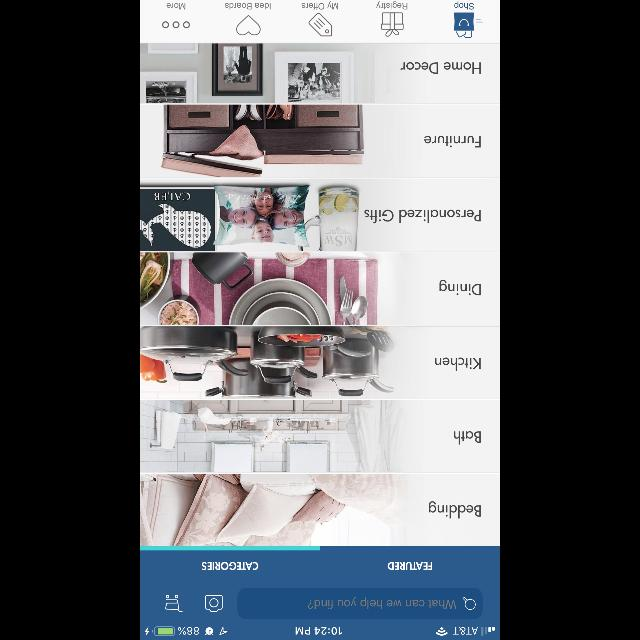icon: (453, 12, 482, 38), (308, 13, 332, 37), (381, 12, 404, 36), (236, 14, 260, 36), (165, 594, 182, 612), (205, 594, 222, 612), (462, 596, 476, 610), (162, 22, 190, 28)
image: (140, 401, 410, 473), (140, 474, 410, 546), (140, 327, 396, 399), (140, 253, 378, 325), (160, 104, 364, 176), (140, 185, 360, 251), (140, 44, 376, 102)
input: (238, 588, 482, 618)
text: (308, 597, 457, 609), (364, 209, 481, 223), (400, 62, 480, 74), (429, 501, 481, 519), (424, 136, 481, 148), (439, 279, 481, 295), (434, 357, 480, 371), (202, 562, 258, 570), (454, 431, 481, 445), (225, 2, 271, 10), (388, 562, 432, 570), (302, 1, 338, 9), (375, 1, 407, 9), (454, 2, 474, 10), (167, 3, 186, 9)
uppertaskbar: (140, 626, 500, 640)
